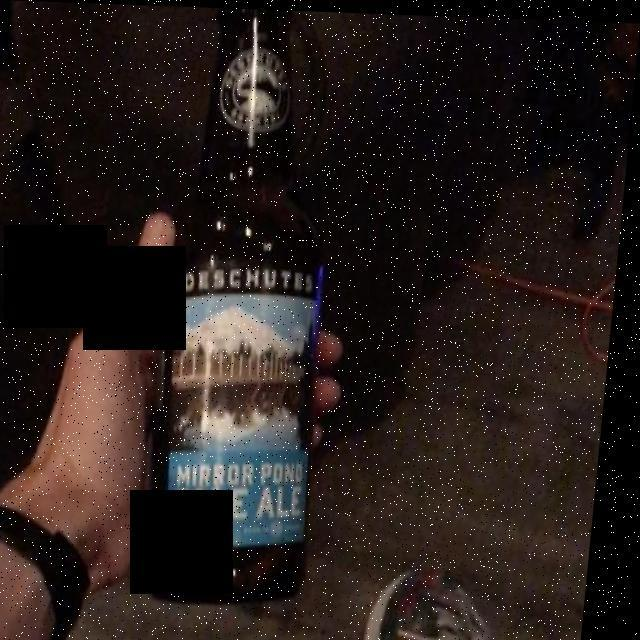beer: (143, 12, 333, 602)
